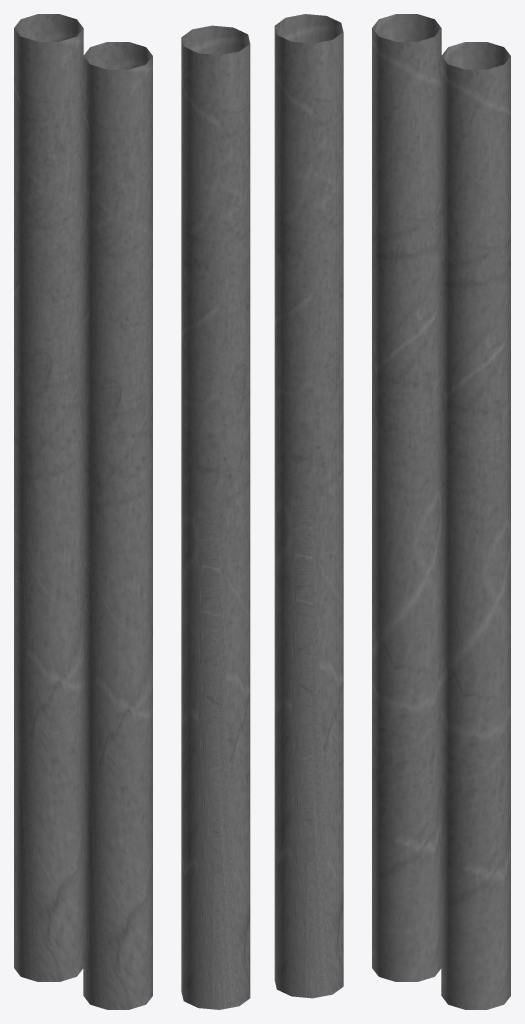
Rendered from SM_WallTubes02.fbx.
3 renders of one model, left to right at view 1: azimuth 90°, elevation 25°; view 2: azimuth 150°, elevation 25°; view 3: azimuth 270°, elevation 25°, orthographic.
Parts seen in each view (by area): view 1: Cylinder; view 2: Cylinder; view 3: Cylinder.
Part boxes in pixels (bbox=[...]): Cylinder: bbox=[14, 14, 152, 1009]; Cylinder: bbox=[181, 14, 343, 1009]; Cylinder: bbox=[372, 14, 510, 1009].
Bounding box in the file's own units: 50.94 × 401 × 53.56.
